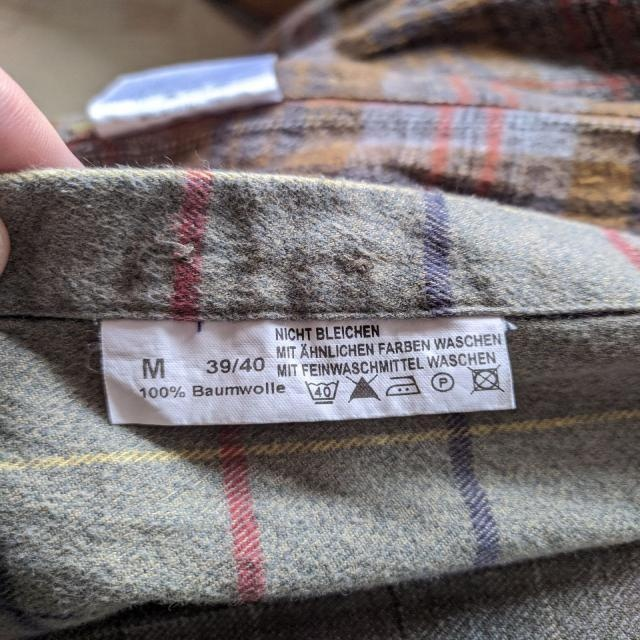40C: (305, 377, 342, 405)
DN_bleach: (344, 373, 384, 404)
DN_tumble_dry: (468, 366, 504, 394)
dry_clean_any_solvent_except_trichloroethylene: (429, 371, 457, 394)
iron_medium: (384, 373, 425, 399)
